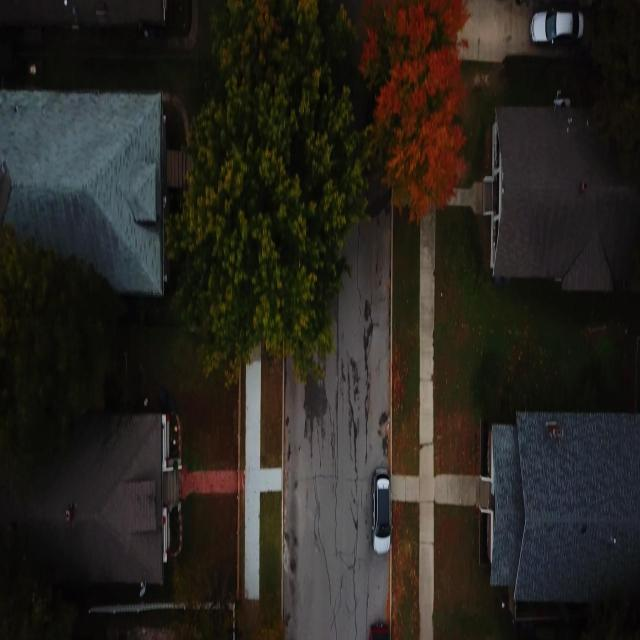Car: (530, 7, 584, 46), (371, 466, 393, 556)
